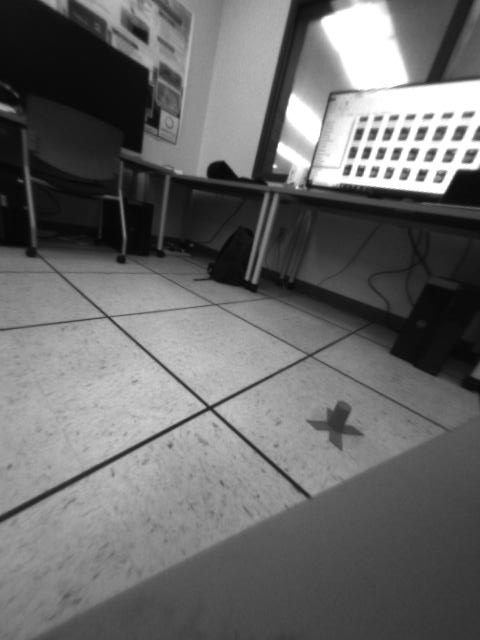X: (306, 401, 364, 454)
